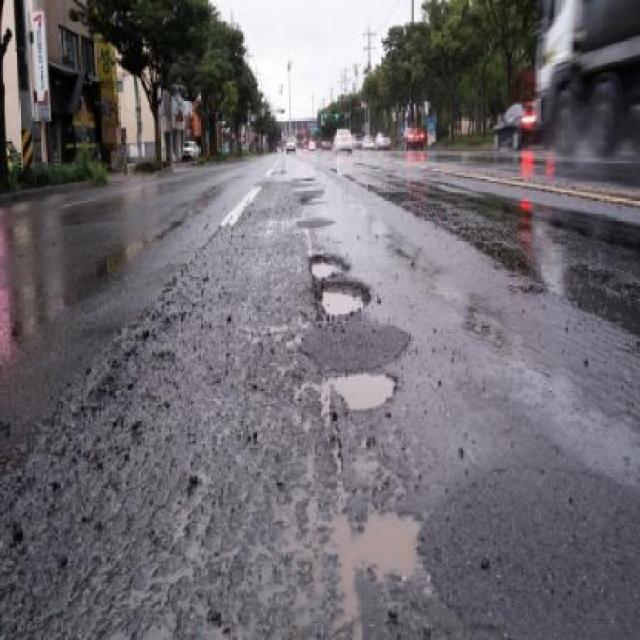Pothole: (326, 492, 431, 598), (318, 363, 404, 422), (313, 278, 375, 320), (310, 249, 352, 285)
